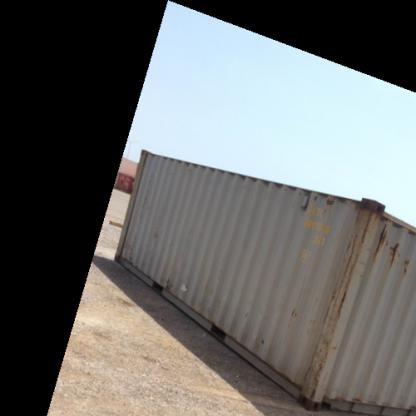Damage: (286, 274, 357, 404), (372, 221, 413, 276), (154, 272, 196, 296), (309, 192, 339, 209), (148, 228, 164, 256), (256, 326, 270, 344)
